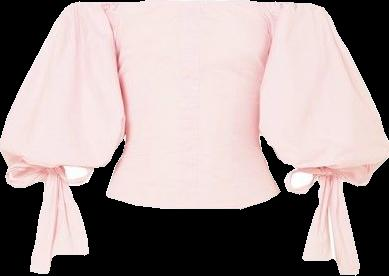Bodice: (98, 0, 283, 208)
Neckline: (97, 0, 284, 5)
Sleeve: (259, 2, 388, 185), (0, 1, 125, 187)
Sleeveline: (94, 2, 116, 47), (269, 3, 284, 44)
Waistline: (104, 189, 281, 211)
